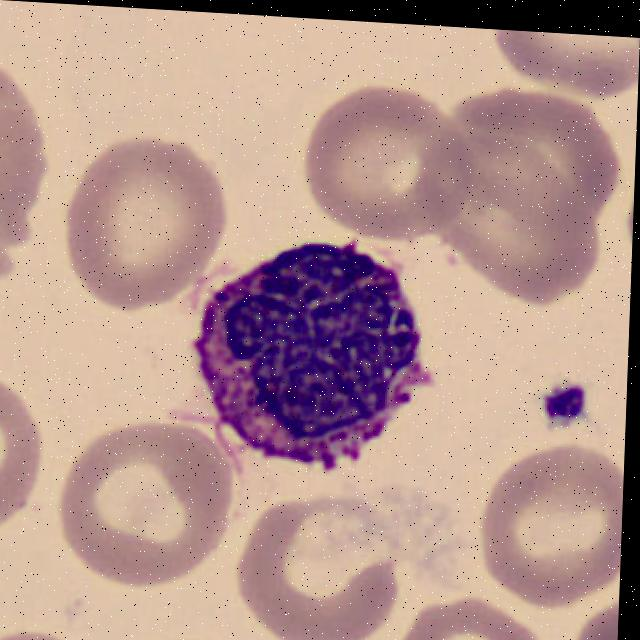basophil: (181, 231, 440, 508)
platelets: (536, 373, 597, 435)
rbc: (408, 121, 610, 325), (289, 77, 483, 246), (440, 67, 628, 241), (449, 431, 625, 609), (60, 130, 230, 314), (47, 423, 234, 568), (236, 488, 400, 640), (0, 52, 47, 353), (472, 28, 640, 98), (0, 356, 47, 534), (396, 598, 574, 640), (0, 595, 108, 640), (125, 623, 266, 640), (565, 597, 619, 640), (619, 145, 636, 265)
